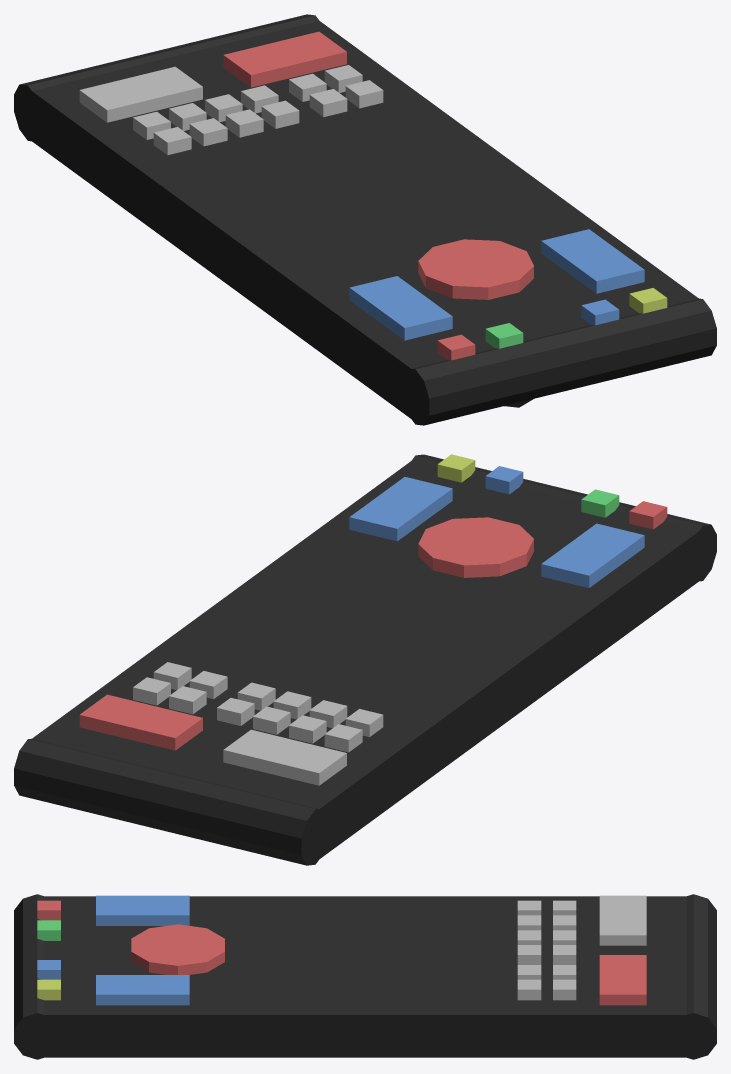
3 views of the same model, one above another, from view 1: azimuth 30°, elevation 25°; view 2: azimuth 150°, elevation 25°; view 3: azimuth 270°, elevation 25° (orthographic). The views are drawn at different scales.
Parts seen in each view (by area): view 1: cube, cylinder, cylinder_2, cube_1, cube_2, cube_15, cube_16, cylinder_1, cube_6, cube_9, cube_14, cube_5 (+12 smaller); view 2: cube, cylinder_1, cylinder_2, cube_1, cube_2, cube_15, cube_16, cylinder, cube_3, cube_18, cube_17, cube_19 (+12 smaller); view 3: cube, cylinder_1, cylinder, cylinder_2, cube_16, cube_15, cube_1, cube_2, cube_14, cube_12, cube_19, cube_10 (+12 smaller).
Boxes of the visible parts, <box> form: cube: <box>27,21,698,421</box>; cylinder: <box>411,298,716,425</box>; cylinder_2: <box>418,239,533,299</box>; cube_1: <box>79,66,202,122</box>; cube_2: <box>223,31,346,87</box>; cube_15: <box>349,276,452,340</box>; cube_16: <box>541,229,644,293</box>; cylinder_1: <box>14,14,319,141</box>; cube_6: <box>189,118,227,146</box>; cube_9: <box>225,109,263,137</box>; cube_14: <box>345,80,383,108</box>; cube_5: <box>153,127,191,155</box>; cube: <box>32,461,703,861</box>; cylinder_1: <box>14,738,318,865</box>; cylinder_2: <box>418,517,533,577</box>; cube_1: <box>223,729,346,785</box>; cube_2: <box>79,694,202,750</box>; cube_15: <box>541,523,644,587</box>; cube_16: <box>349,477,452,541</box>; cylinder: <box>411,454,716,581</box>; cube_3: <box>324,724,362,752</box>; cube_18: <box>581,489,619,517</box>; cube_17: <box>629,501,667,529</box>; cube_19: <box>437,454,475,482</box>; cube: <box>37,896,693,1057</box>; cylinder_1: <box>686,894,716,1059</box>; cylinder: <box>14,894,44,1059</box>; cylinder_2: <box>131,924,224,974</box>; cube_16: <box>96,975,189,1005</box>; cube_15: <box>96,895,189,925</box>; cube_1: <box>599,895,646,945</box>; cube_2: <box>599,955,646,1005</box>; cube_14: <box>517,979,541,1000</box>; cube_12: <box>553,979,576,1000</box>; cube_19: <box>37,979,60,1000</box>; cube_10: <box>517,945,541,964</box>.
Size of the model in its own units: 23.45 by 8.79 by 58.59.
Materials: 1 (1 with a texture image).
